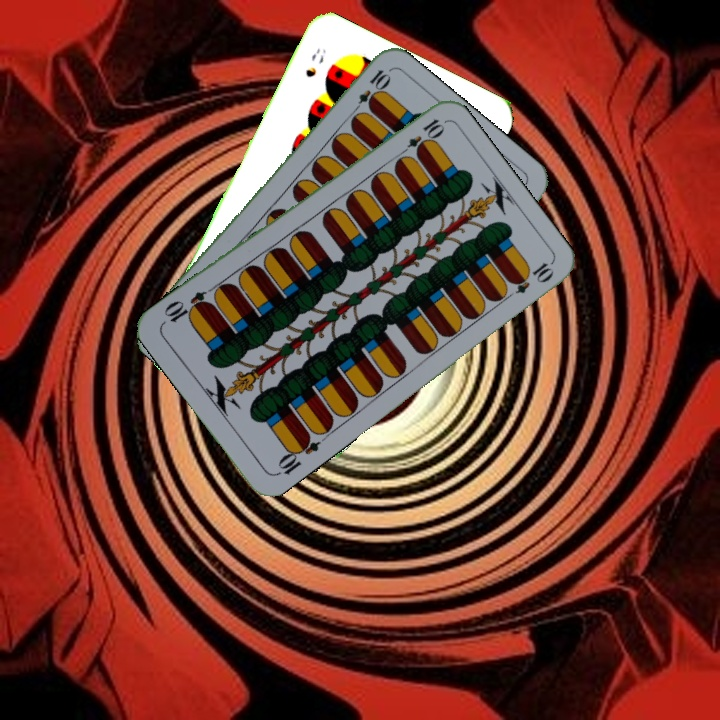E10: (272, 430, 323, 479), (394, 114, 446, 160), (348, 65, 392, 118)
S8: (301, 44, 329, 80)
